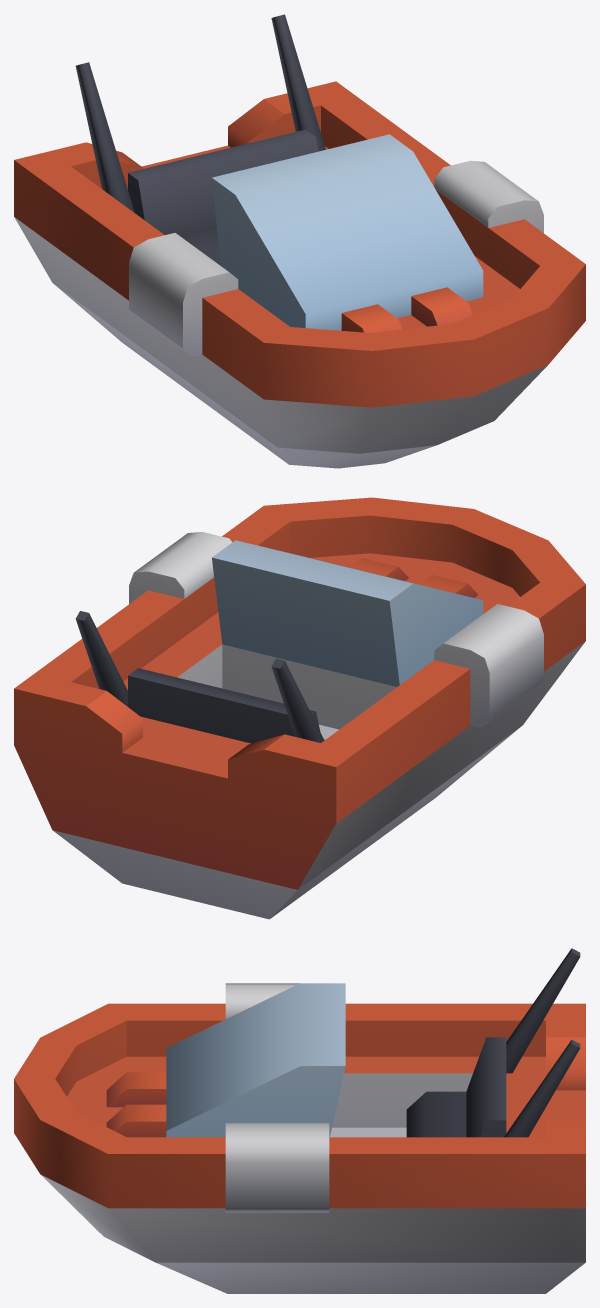
File: boat-speed-e.glb
3 views of the same model, one above another, from view 1: azimuth 30°, elevation 25°; view 2: azimuth 150°, elevation 25°; view 3: azimuth 270°, elevation 25° (orthographic). The views are drawn at different scales.
Parts seen in each view (by area): view 1: boat-speed-e; view 2: boat-speed-e; view 3: boat-speed-e.
Part boxes in pixels (x1,y1,x2,y2): boat-speed-e: (14,14,585,468); boat-speed-e: (14,497,585,919); boat-speed-e: (14,948,585,1293).
Bounding box in the file's own units: 2 × 1.46 × 2.87.
